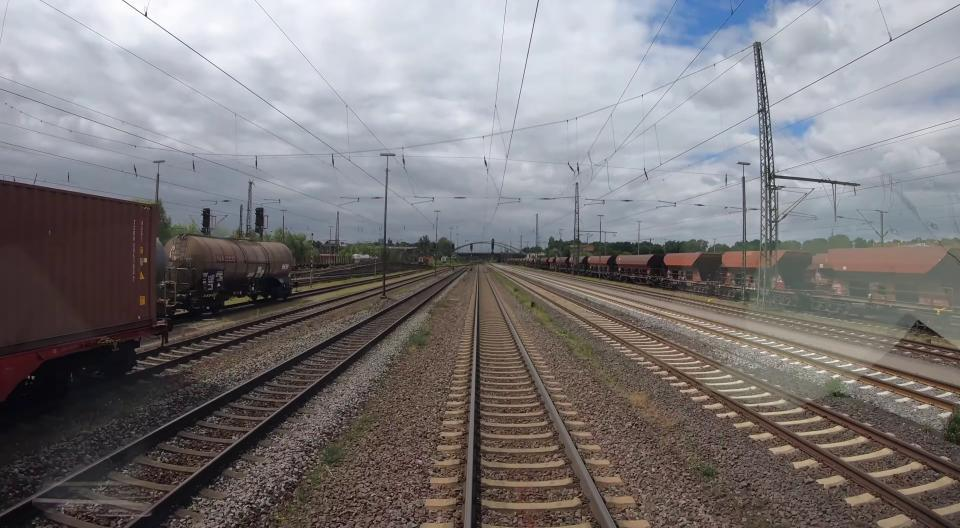Plant: (495, 274, 554, 329), (942, 408, 960, 446), (408, 321, 432, 348), (322, 445, 343, 466), (824, 379, 847, 398), (308, 471, 322, 484), (436, 297, 451, 308)
